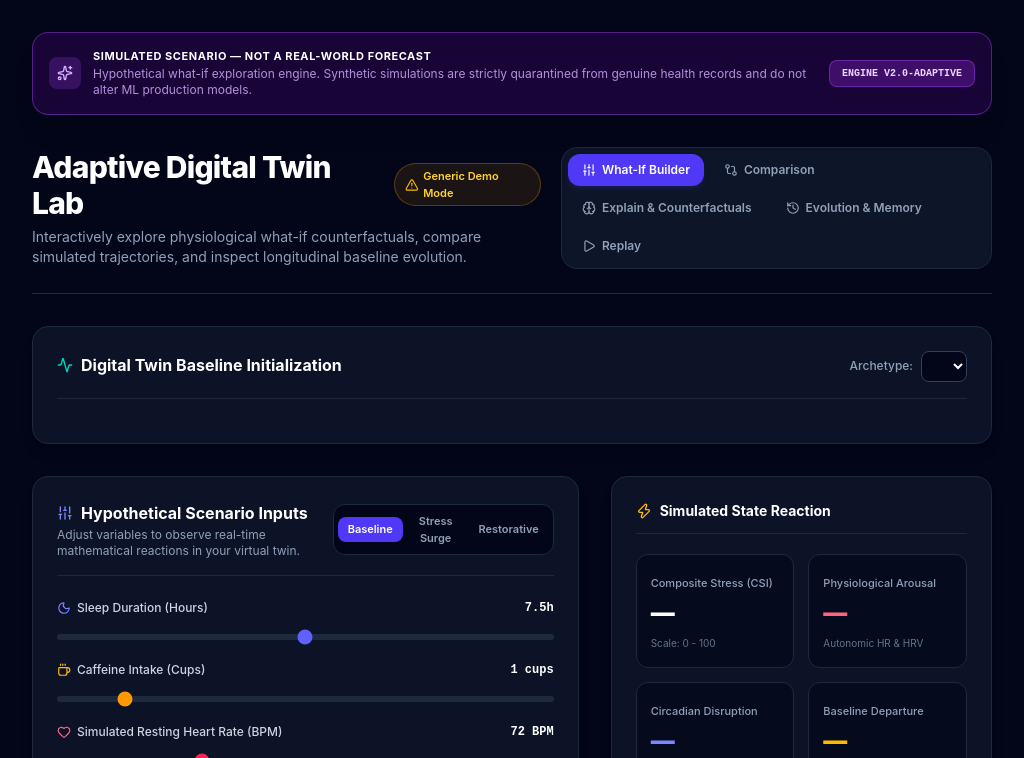
Test: Adaptive Digital Twin & Longitudinal Evolution Engine (Frontend) › navigates to Comparison tab and displays side-by-side scenarios and deltas
The width and height of the screenshot is (1024, 758).
Click the button "Comparison": (769,170) [710,154,829,186]
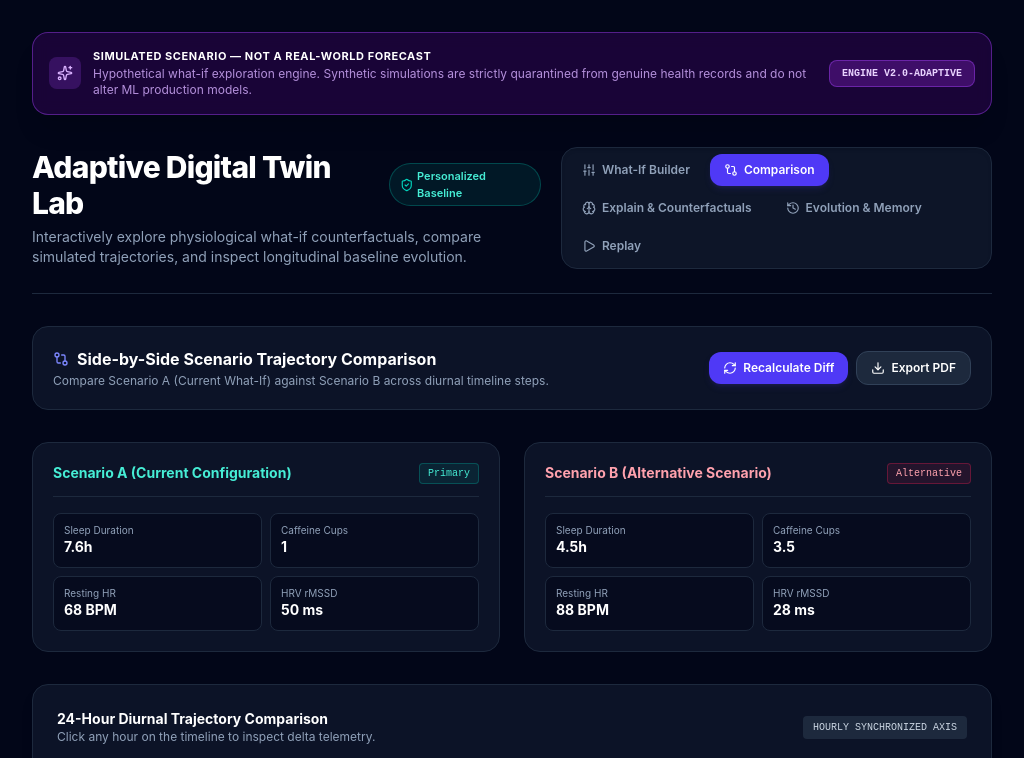
Result: the text "Side-by-Side Scenario Trajectory Comparison" is shown at [77,347,436,371]
Result: the text "Scenario A (Current Configuration)" is shown at [53,463,292,483]
Result: the text "Scenario B (Alternative Scenario)" is shown at [545,463,772,483]
